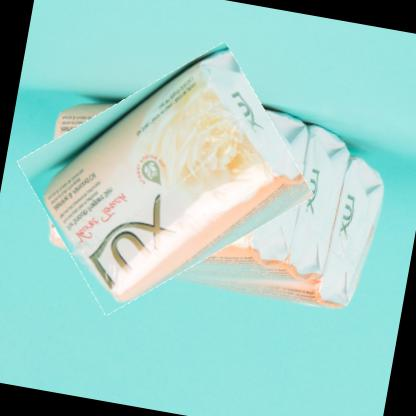soap: (12, 39, 317, 316)
